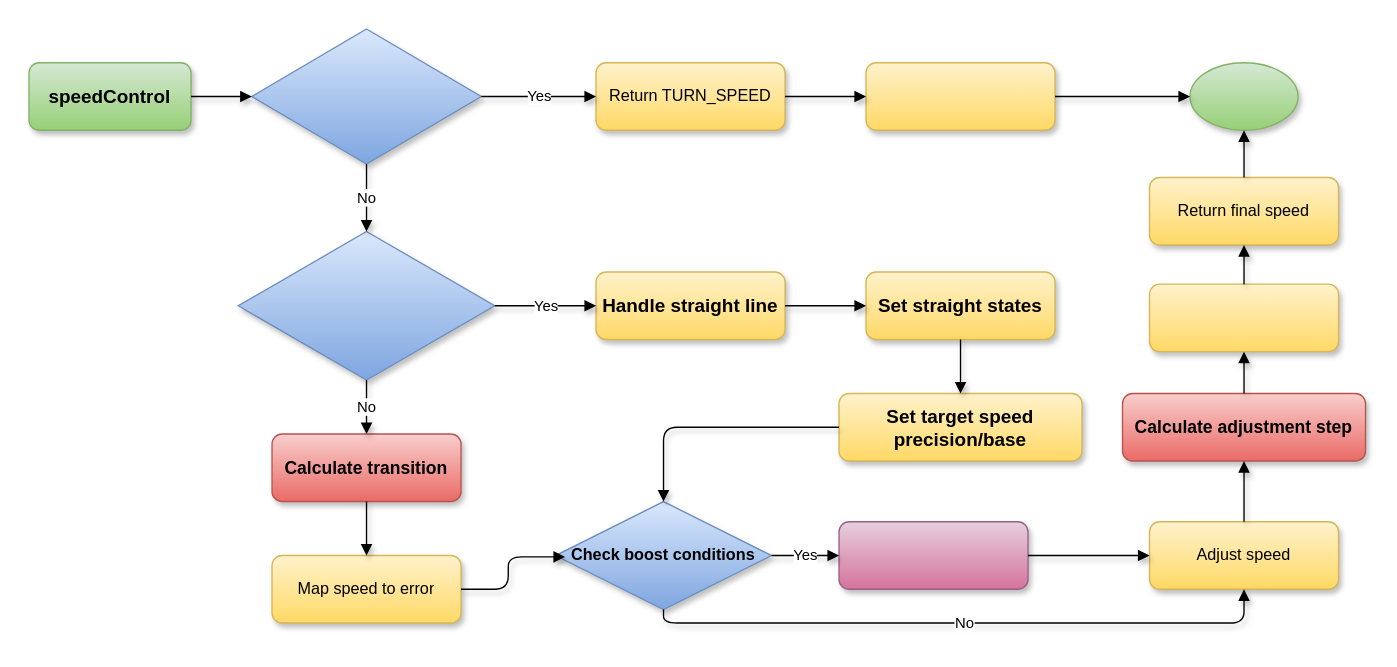
The diagram is 1397 pixels wide and 667 high, and some of its shapes have lost their labels. The shapes that lost their labels are listed below. From the top down, each one's centre as x and y in pixels, then its label:
At point 367,97: "abs error > TURN_THRESHOLD?".
At point 961,98: "Set curve states".
At point 1244,98: "End".
At point 367,307: "abs error < STRAIGHT_THRESHOLD?".
At point 1245,319: "Apply adjustment".
At point 934,557: "Apply boost increment".
